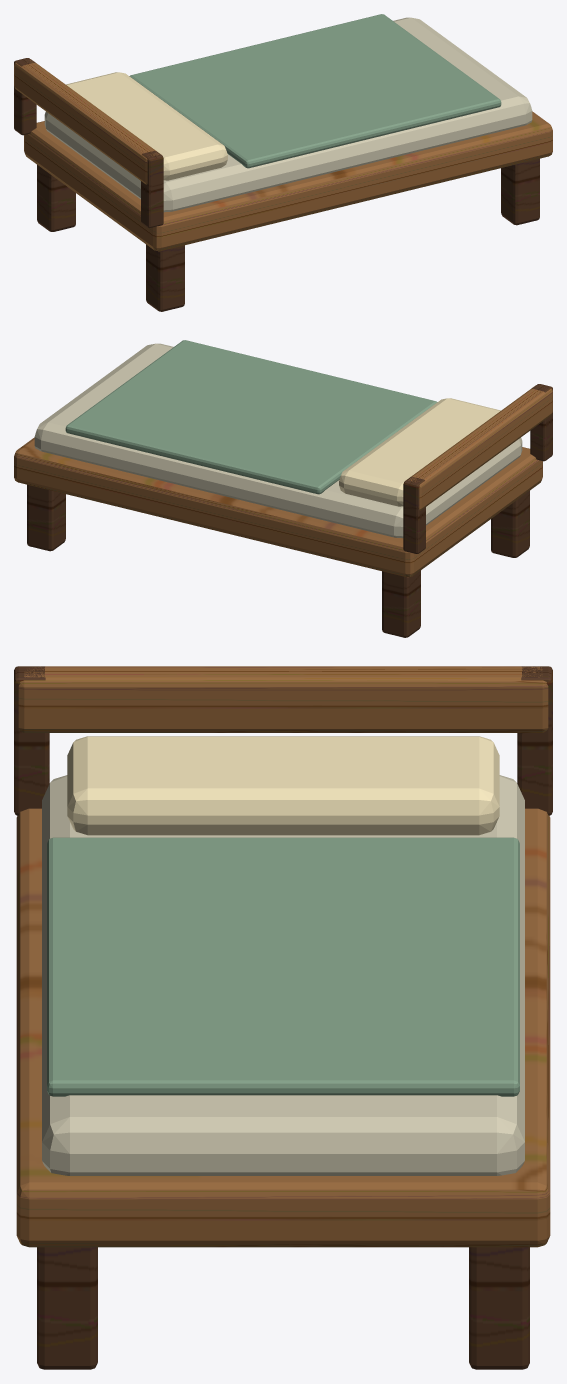
Rendered from SM_HH_V3_TreatmentBedLarge.fbx.
The picture shows the model from 3 angles, top to bottom: view 1: azimuth 30°, elevation 25°; view 2: azimuth 150°, elevation 25°; view 3: azimuth 270°, elevation 25°; orthographic projection. The views are drawn at different scales.
Parts seen in each view (by area): view 1: HH_V3_TreatmentBedLarge; view 2: HH_V3_TreatmentBedLarge; view 3: HH_V3_TreatmentBedLarge.
Part boxes in pixels (x1=…): HH_V3_TreatmentBedLarge: x1=14, y1=14, x2=552, y2=311; HH_V3_TreatmentBedLarge: x1=14, y1=340, x2=552, y2=637; HH_V3_TreatmentBedLarge: x1=14, y1=666, x2=552, y2=1369.
Size of the model in its own units: 1.06 by 1.84 by 0.7.
